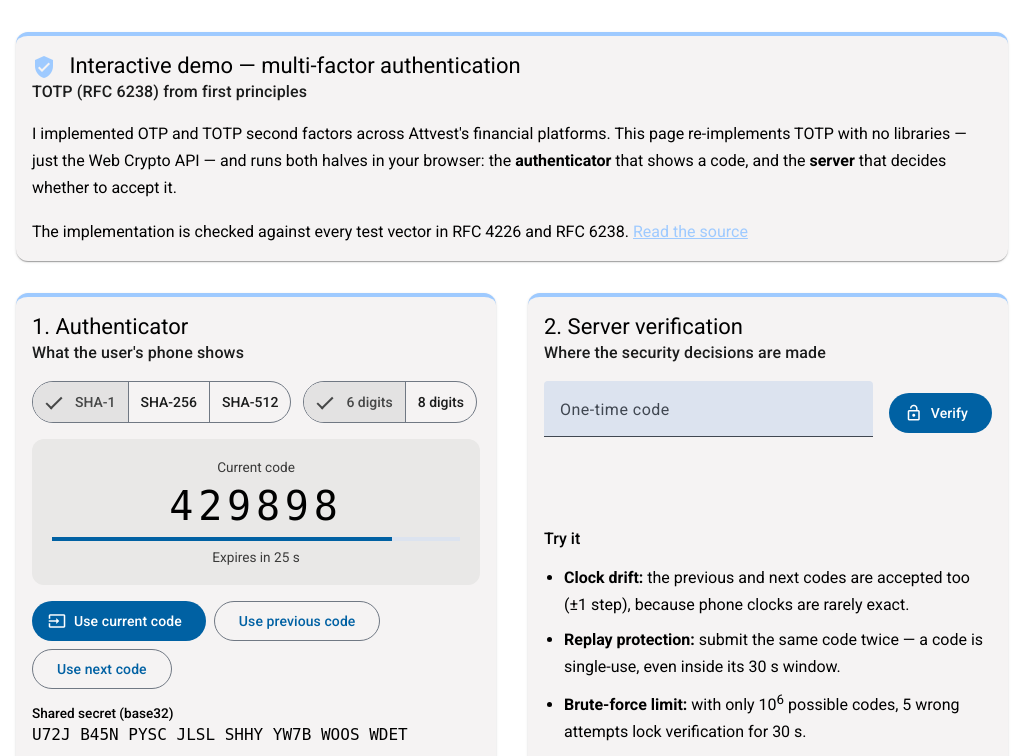
Test case: MfaDemoComponent › counts down wrong attempts before lockout
Type "000000" into the field labelled "One-time code" at (708, 417), box [560, 405, 857, 429]
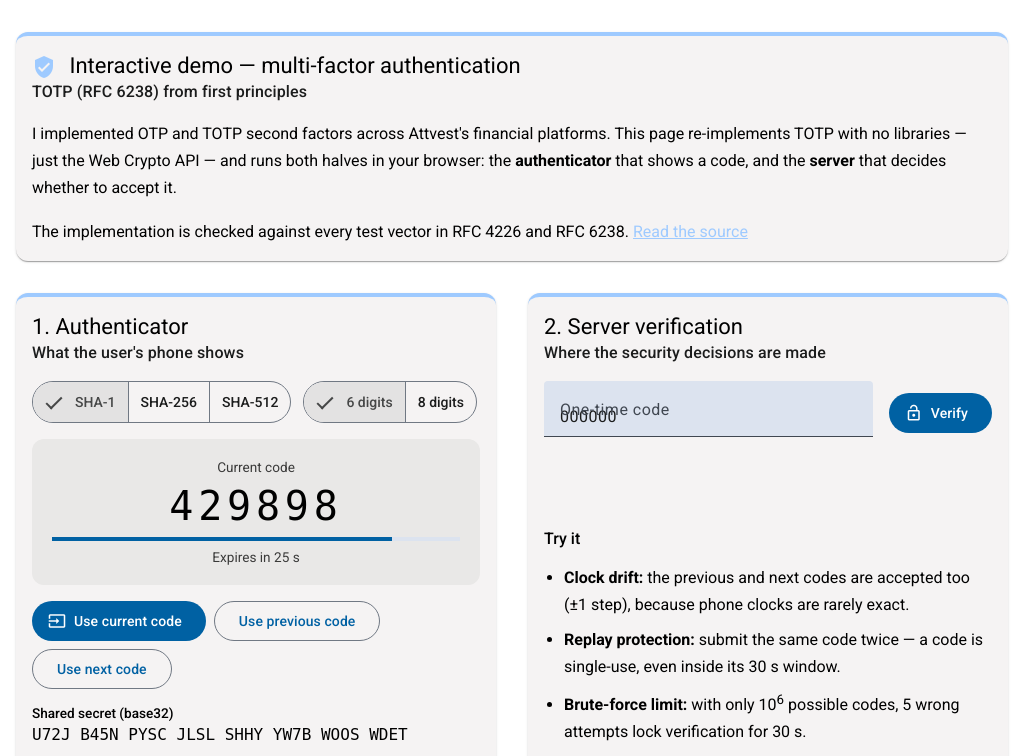
Click the button "Verify" at (940, 413), box [889, 393, 992, 433]
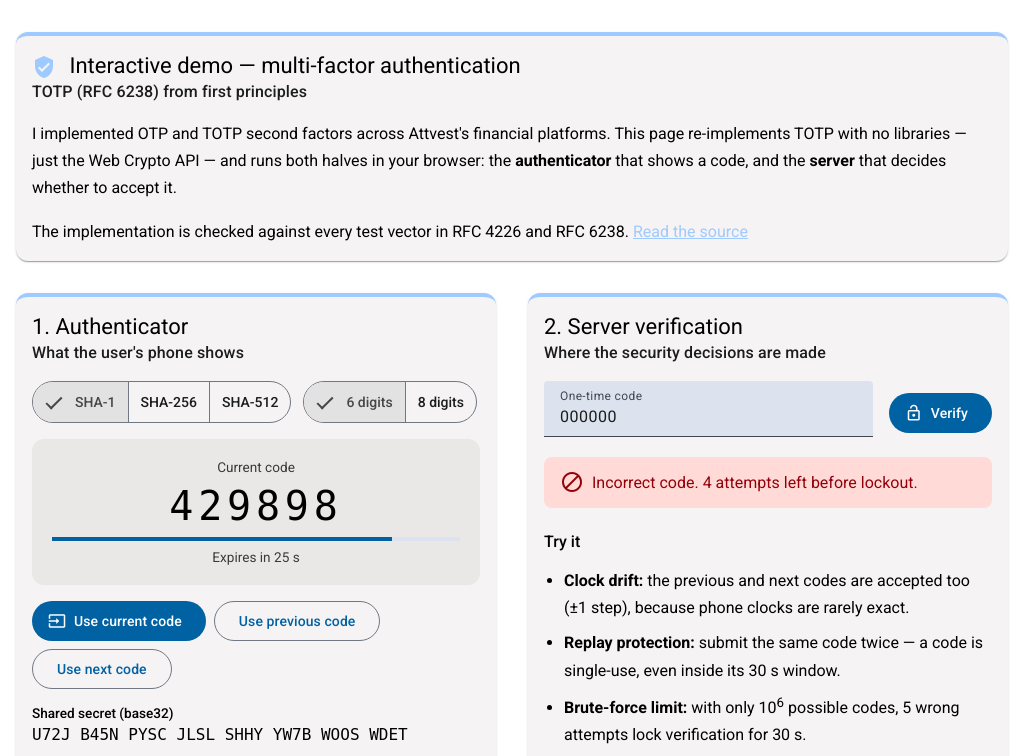
Now the element with class "result-message" shows "4 attempts left", box [592, 473, 918, 492]
